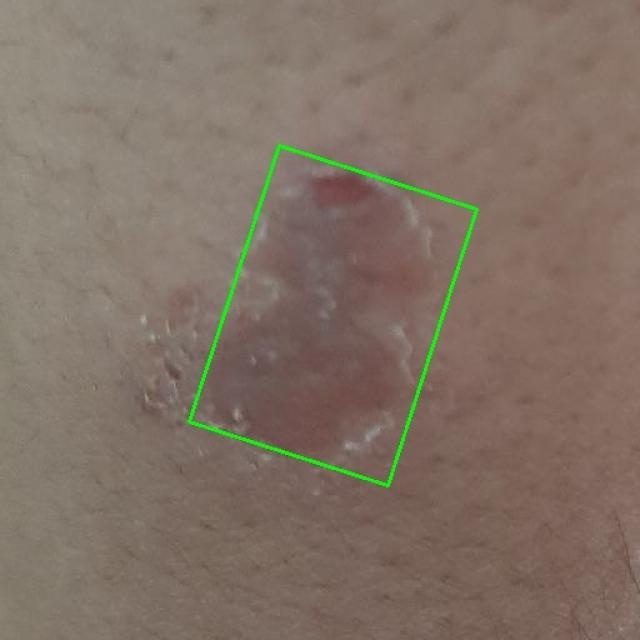Tinea Corporis: (189, 145, 477, 486)
